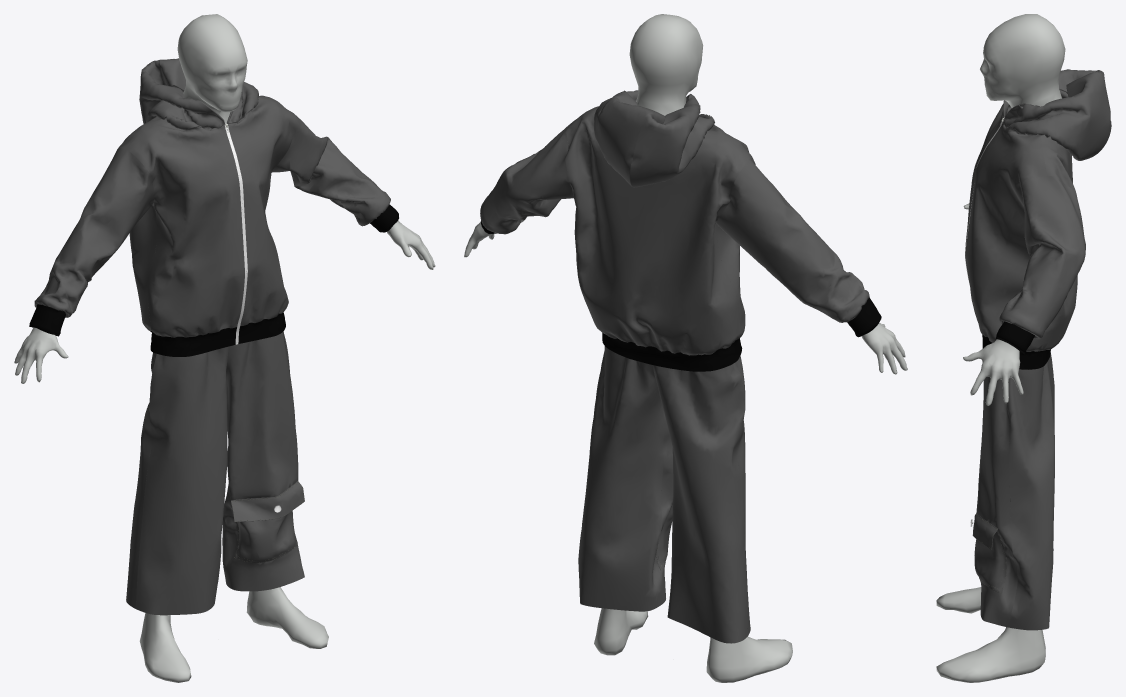
The model's file is final_hoodie.glb.
3 views of the same model, side by side, from view 1: azimuth 30°, elevation 25°; view 2: azimuth 150°, elevation 25°; view 3: azimuth 270°, elevation 25° (orthographic). The views are drawn at different scales.
Parts seen in each view (by area): view 1: hoodie_full; view 2: hoodie_full; view 3: hoodie_full.
Part boxes in pixels (x1=…): hoodie_full: x1=14, y1=14, x2=435, y2=682; hoodie_full: x1=464, y1=14, x2=907, y2=682; hoodie_full: x1=936, y1=14, x2=1111, y2=682.
Size of the model in its own units: 4.58 by 6.52 by 1.65.
Materials: 2 (2 with a texture image).
